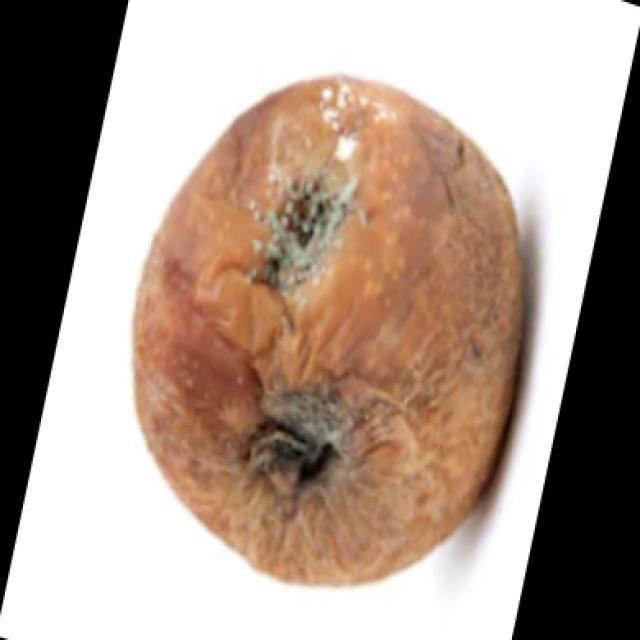Rotten: (133, 75, 527, 597)
